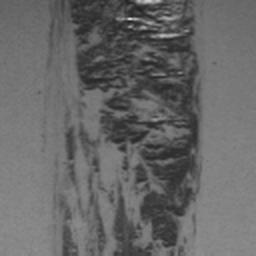Slag inclusion: (46, 0, 202, 256), (58, 200, 81, 256)
